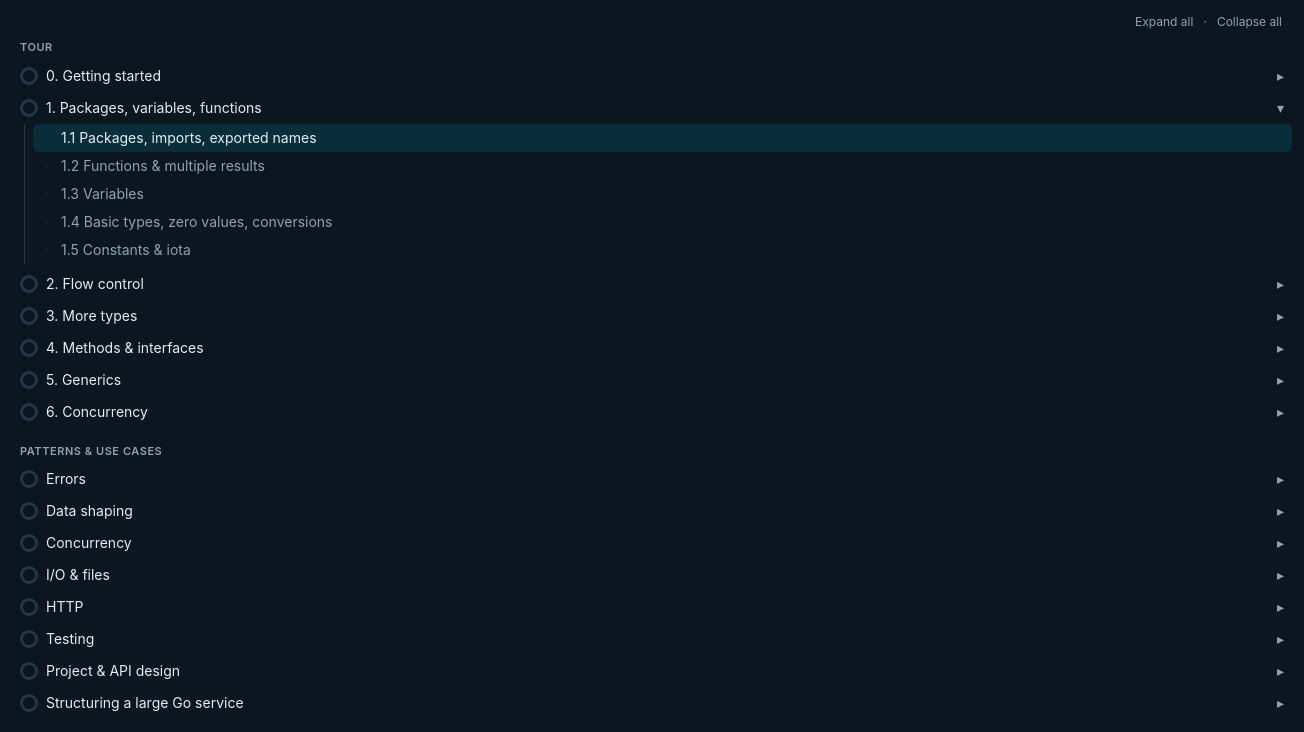
Scenario: the current chapter can be collapsed by clicking its header
Step 1. Click the button "1. Packages, variables, functions ▾" → (161, 107), box [12,92,1292,124]
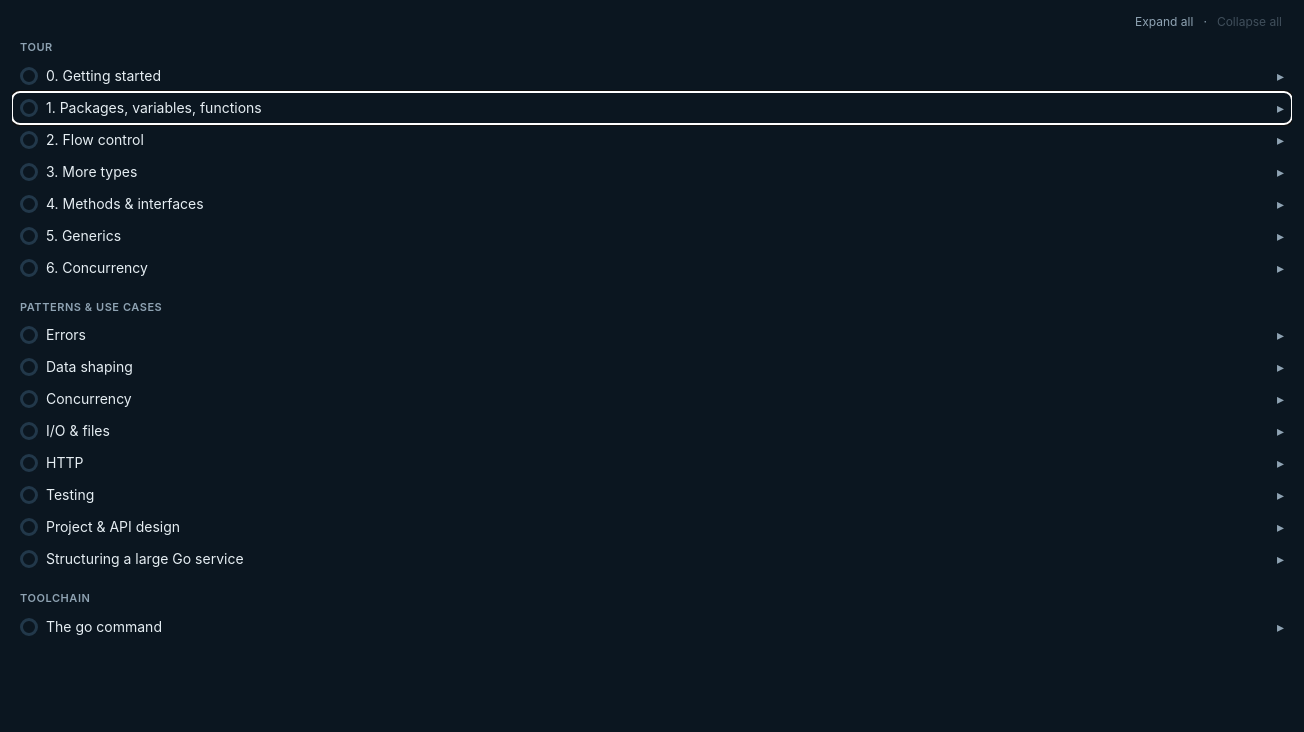
Expected: the button "1. Packages, variables, functions ▸" is collapsed, [12,92,1292,124]
Expected: the link "Packages, imports" is gone
